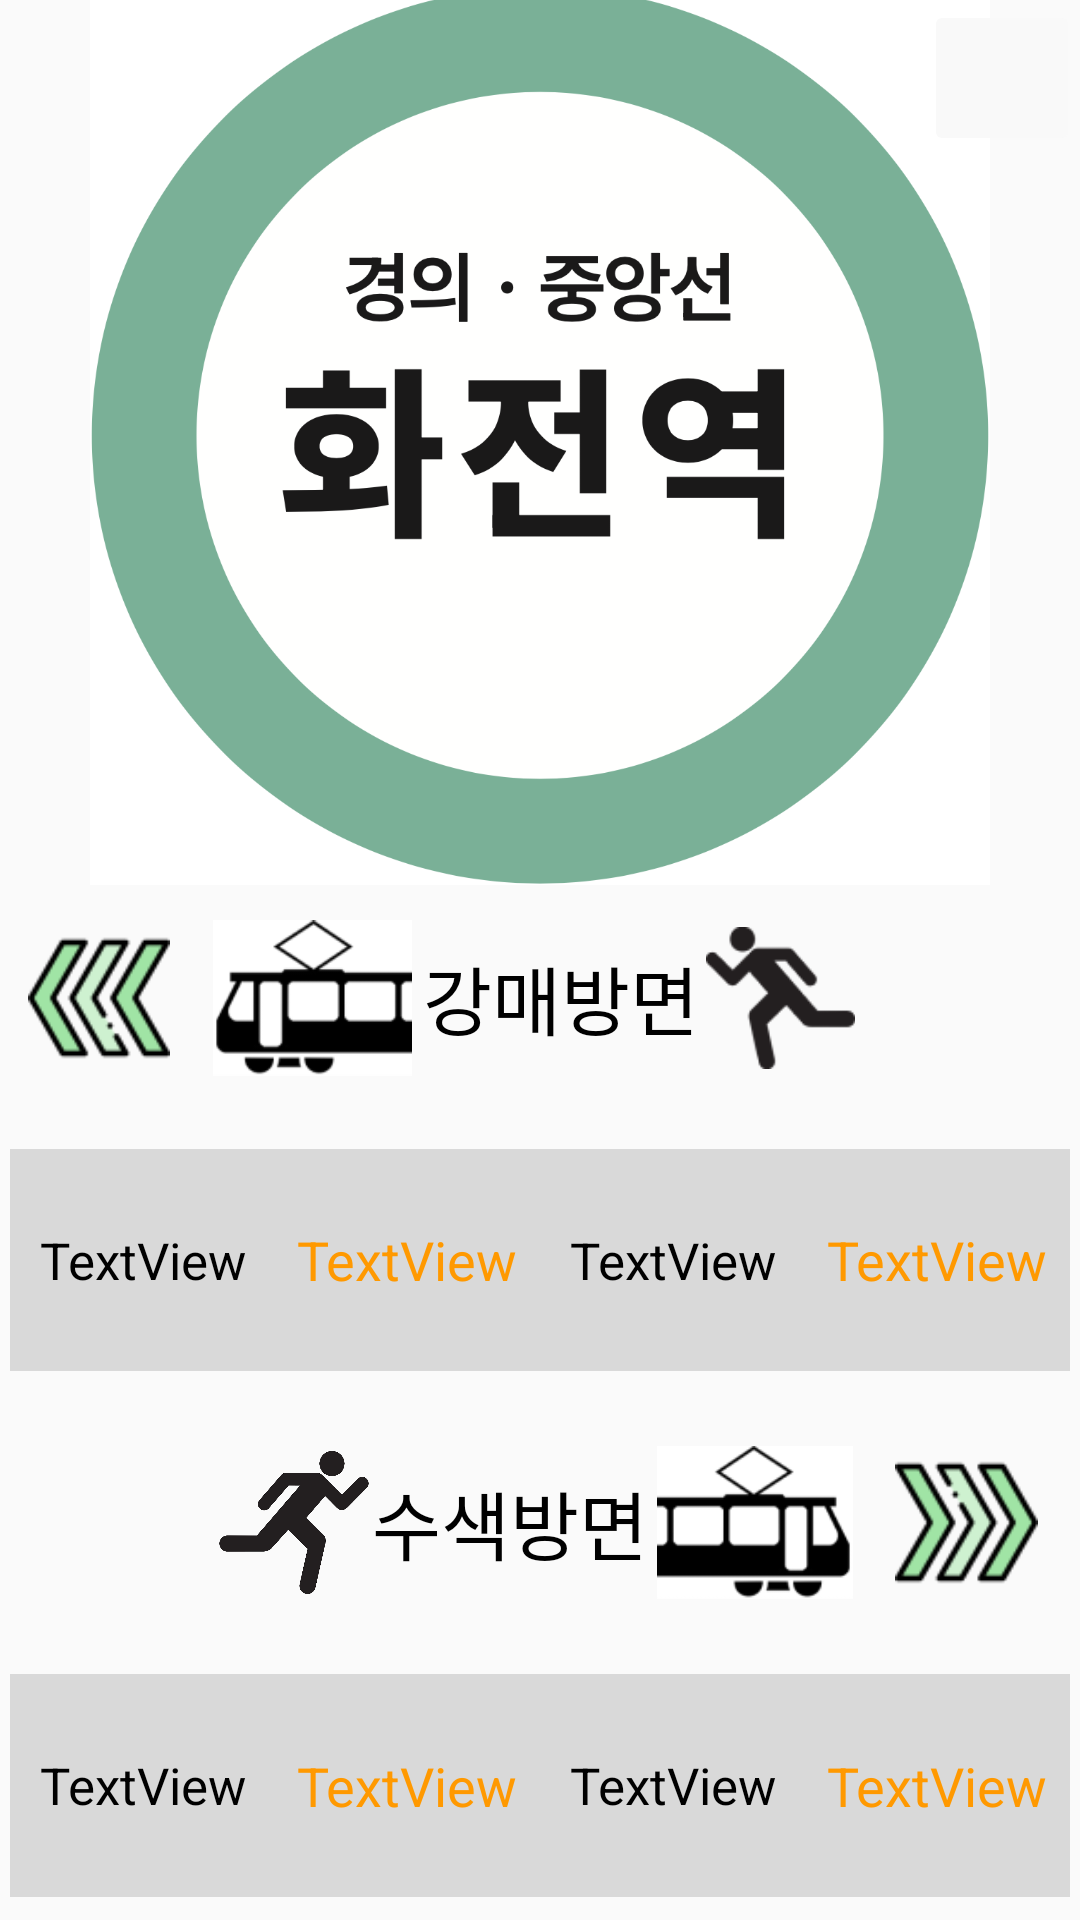

Where to tap for icons on this 1080 × 1920 app screen, as (x,y):
man: (780,998)
runman: (294,1522)
train: (314,997), (753,1522)
